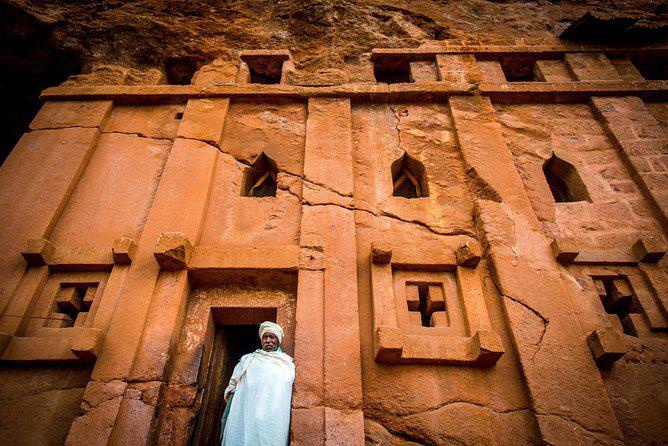crack: (495, 287, 548, 352), (380, 208, 454, 241), (180, 127, 240, 166), (307, 176, 354, 217), (105, 125, 168, 148)
